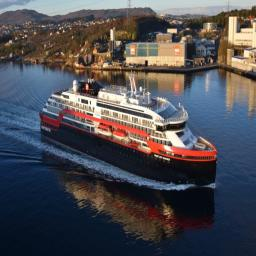cruises: (40, 74, 219, 192)
